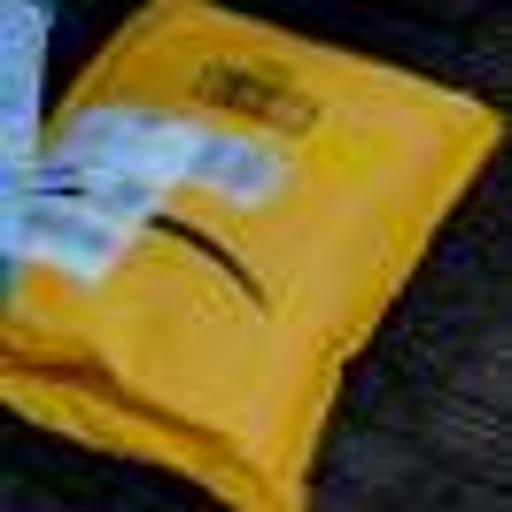Amazon: (25, 0, 477, 503)
